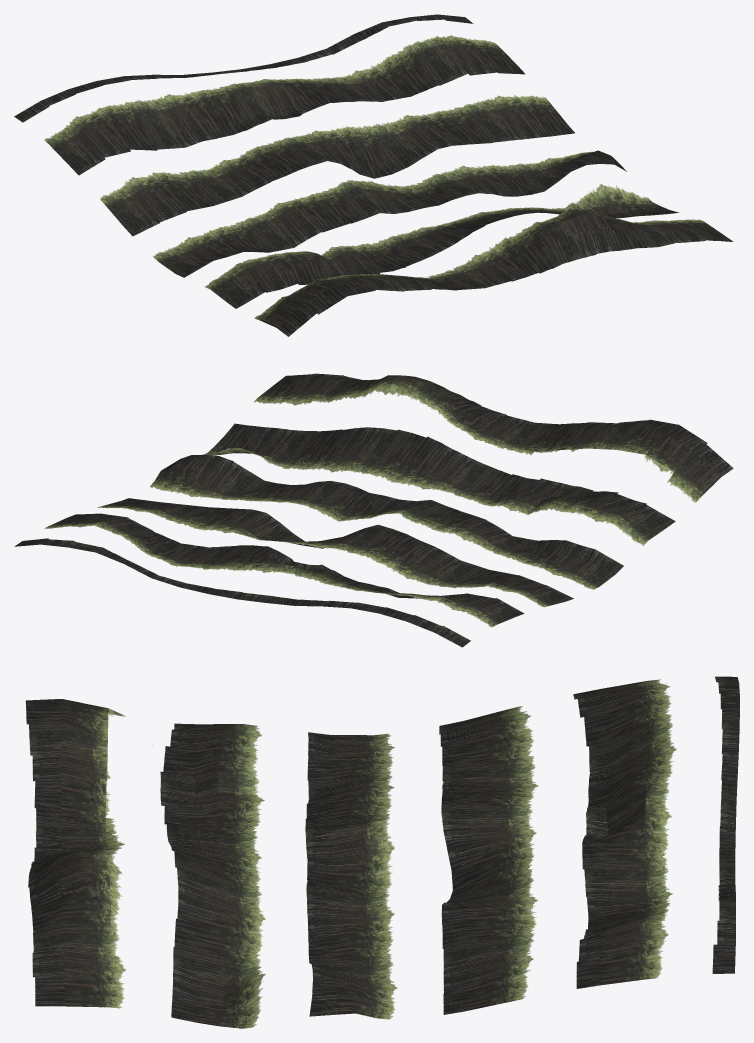
The model's file is SM_NeoLD_03_Block_00.fbx.
3 renders of one model, top to bottom at view 1: azimuth 30°, elevation 25°; view 2: azimuth 150°, elevation 25°; view 3: azimuth 270°, elevation 25°, orthographic. The views are drawn at different scales.
Visible parts, largest first — view 1: SM_NeoLD_03_Block_00; view 2: SM_NeoLD_03_Block_00; view 3: SM_NeoLD_03_Block_00.
Part boxes in pixels (x1,y1,x2,y2): SM_NeoLD_03_Block_00: (14, 14, 733, 336); SM_NeoLD_03_Block_00: (14, 373, 733, 647); SM_NeoLD_03_Block_00: (25, 676, 739, 1028).
Bounding box in the file's own units: 4741 × 712 × 5120.
